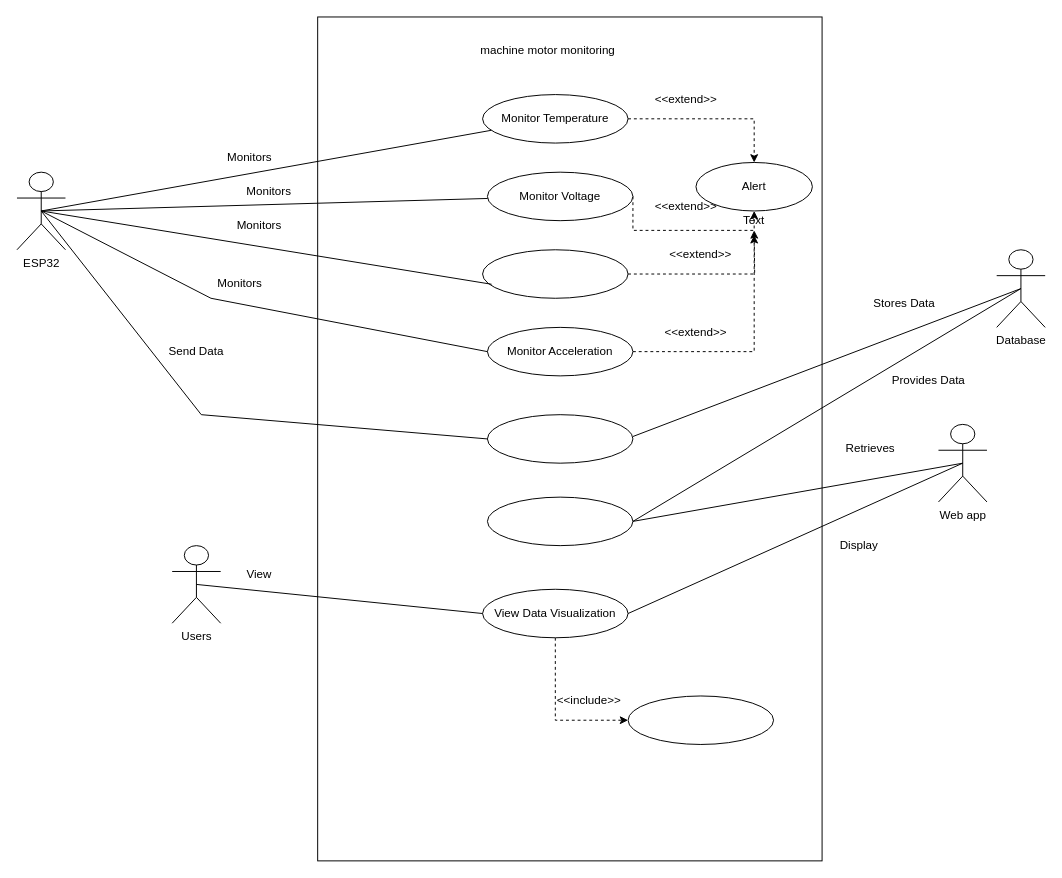
Image size: 1062x878. Some labels were removed from this diagram. Each missing label, with the box of its shape:
Access and get Data from Database: (486, 496, 633, 546)
Monitor Current: (482, 249, 628, 298)
Process Data: (627, 695, 774, 744)
Store Data in Database: (486, 414, 633, 463)
